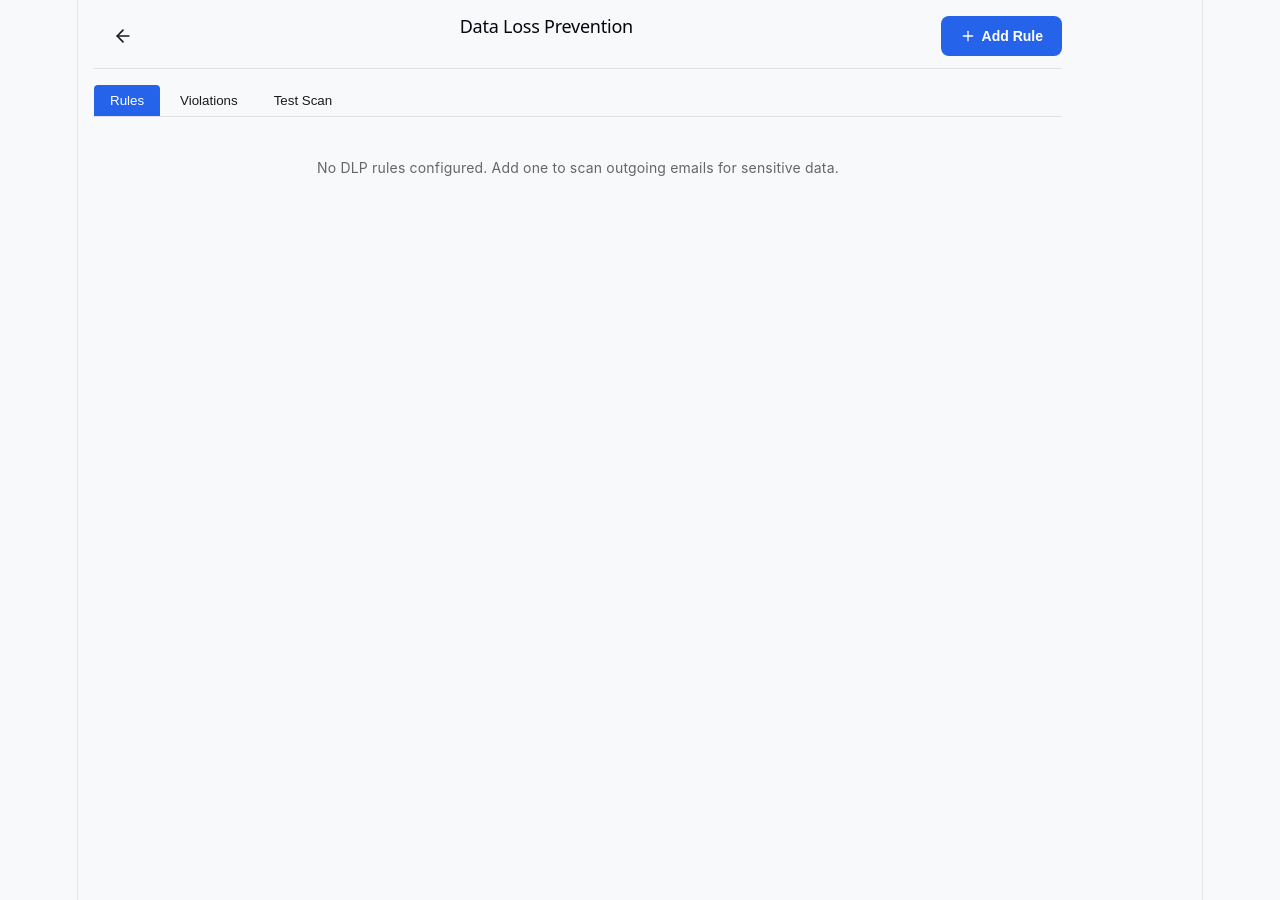
Test: DlpManager › shows add rule form when Add Rule is clicked
Click the button "Add Rule": (1001, 36) top-left (940, 16), bottom-right (1062, 56)
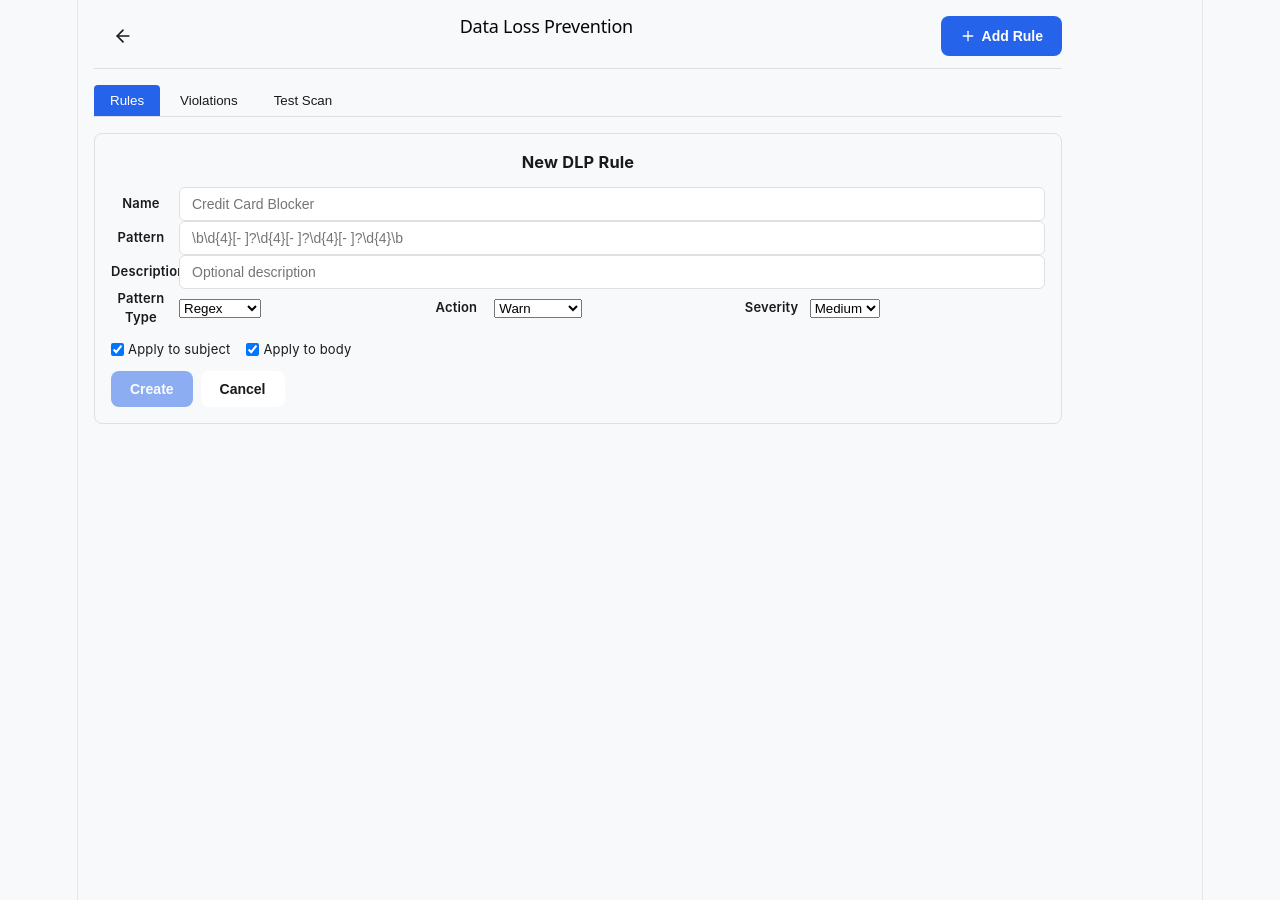
Result: the heading "New DLP Rule" is shown at top-left (522, 152), bottom-right (634, 172)
Result: the field with placeholder "Credit Card Blocker" is shown at top-left (179, 187), bottom-right (1045, 221)
